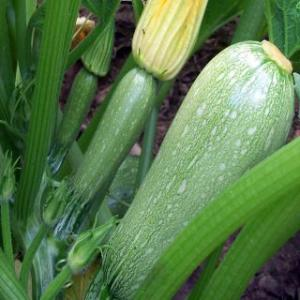zucchini: (98, 26, 300, 300)
